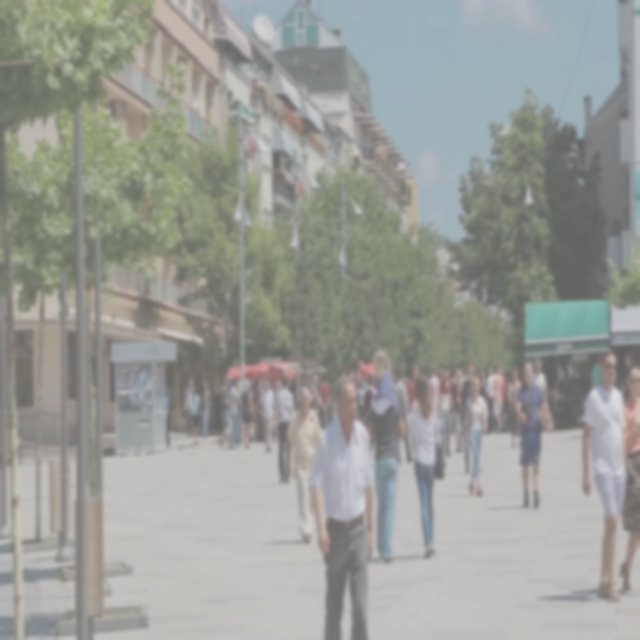pessoa: (308, 373, 377, 639), (579, 347, 627, 602), (364, 374, 406, 566), (406, 374, 447, 562), (282, 384, 324, 547), (514, 358, 554, 511), (618, 362, 639, 598), (462, 372, 490, 497), (548, 360, 592, 428), (348, 369, 376, 464), (274, 372, 296, 487), (369, 346, 399, 429), (393, 370, 415, 468), (436, 366, 457, 458), (459, 360, 475, 476), (405, 363, 421, 461), (507, 364, 524, 449), (258, 376, 276, 454), (448, 368, 463, 453), (240, 376, 256, 450), (227, 374, 242, 452), (218, 374, 232, 452), (452, 368, 464, 453), (308, 373, 326, 423), (492, 361, 504, 436), (497, 367, 510, 432), (484, 366, 496, 436), (198, 378, 211, 441), (615, 352, 633, 397), (532, 358, 548, 406), (250, 378, 262, 442), (189, 388, 202, 447), (183, 376, 194, 439), (427, 367, 442, 412), (164, 384, 173, 449), (320, 376, 330, 431), (590, 350, 602, 392), (16, 418, 24, 464), (478, 367, 488, 397), (92, 382, 96, 430), (438, 364, 444, 374)
